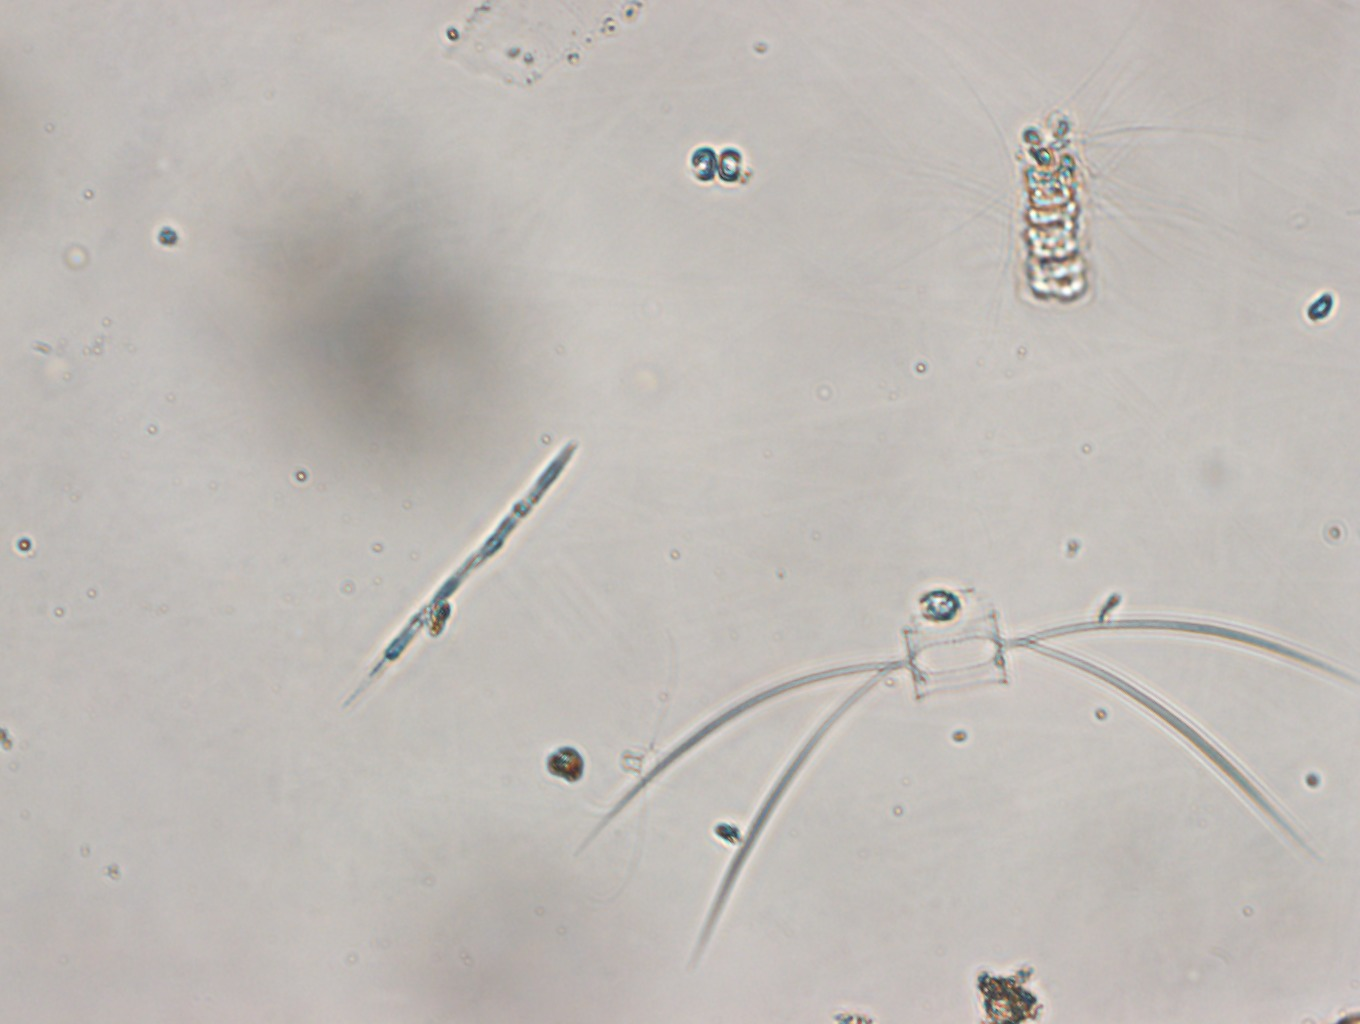chaetoceros: (577, 580, 1360, 986)
